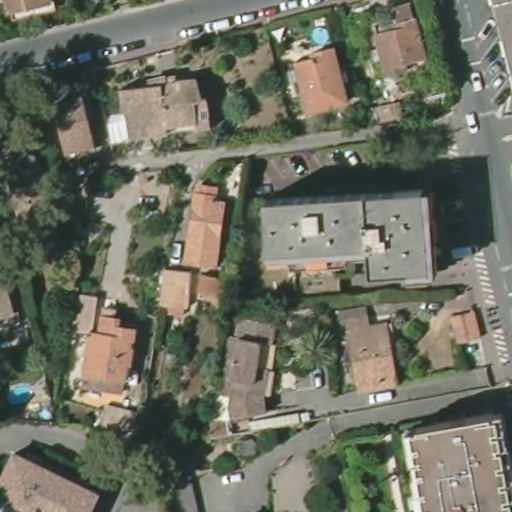pool: (7, 379, 40, 411), (307, 25, 336, 47)
